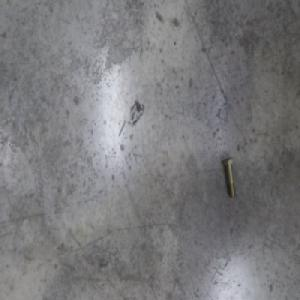Bolt: (219, 154, 233, 197)
